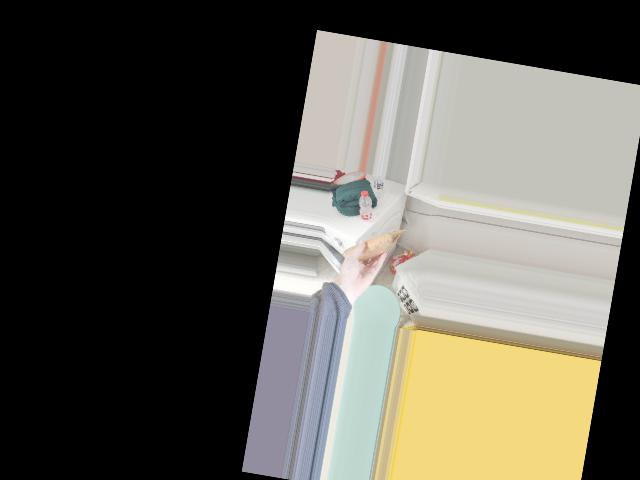sweet_potato: (352, 228, 389, 264)
